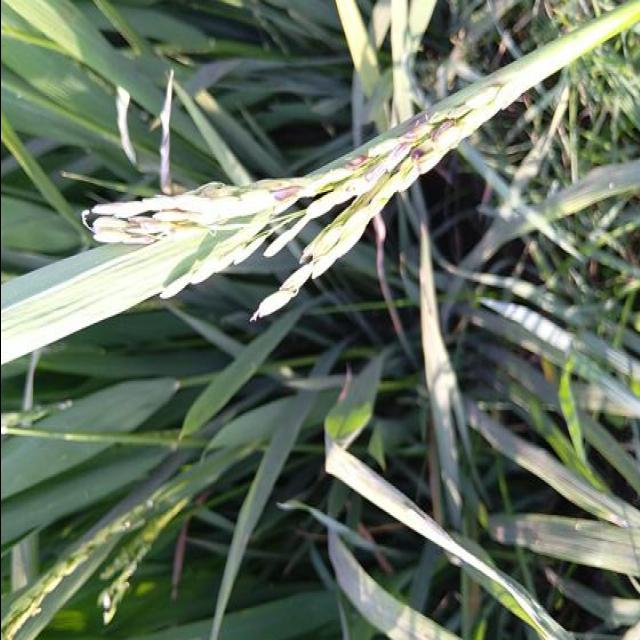Panicle Blight: (125, 218, 194, 244), (413, 120, 454, 158), (189, 181, 233, 201), (400, 116, 426, 139), (270, 187, 302, 200), (344, 155, 368, 171)
